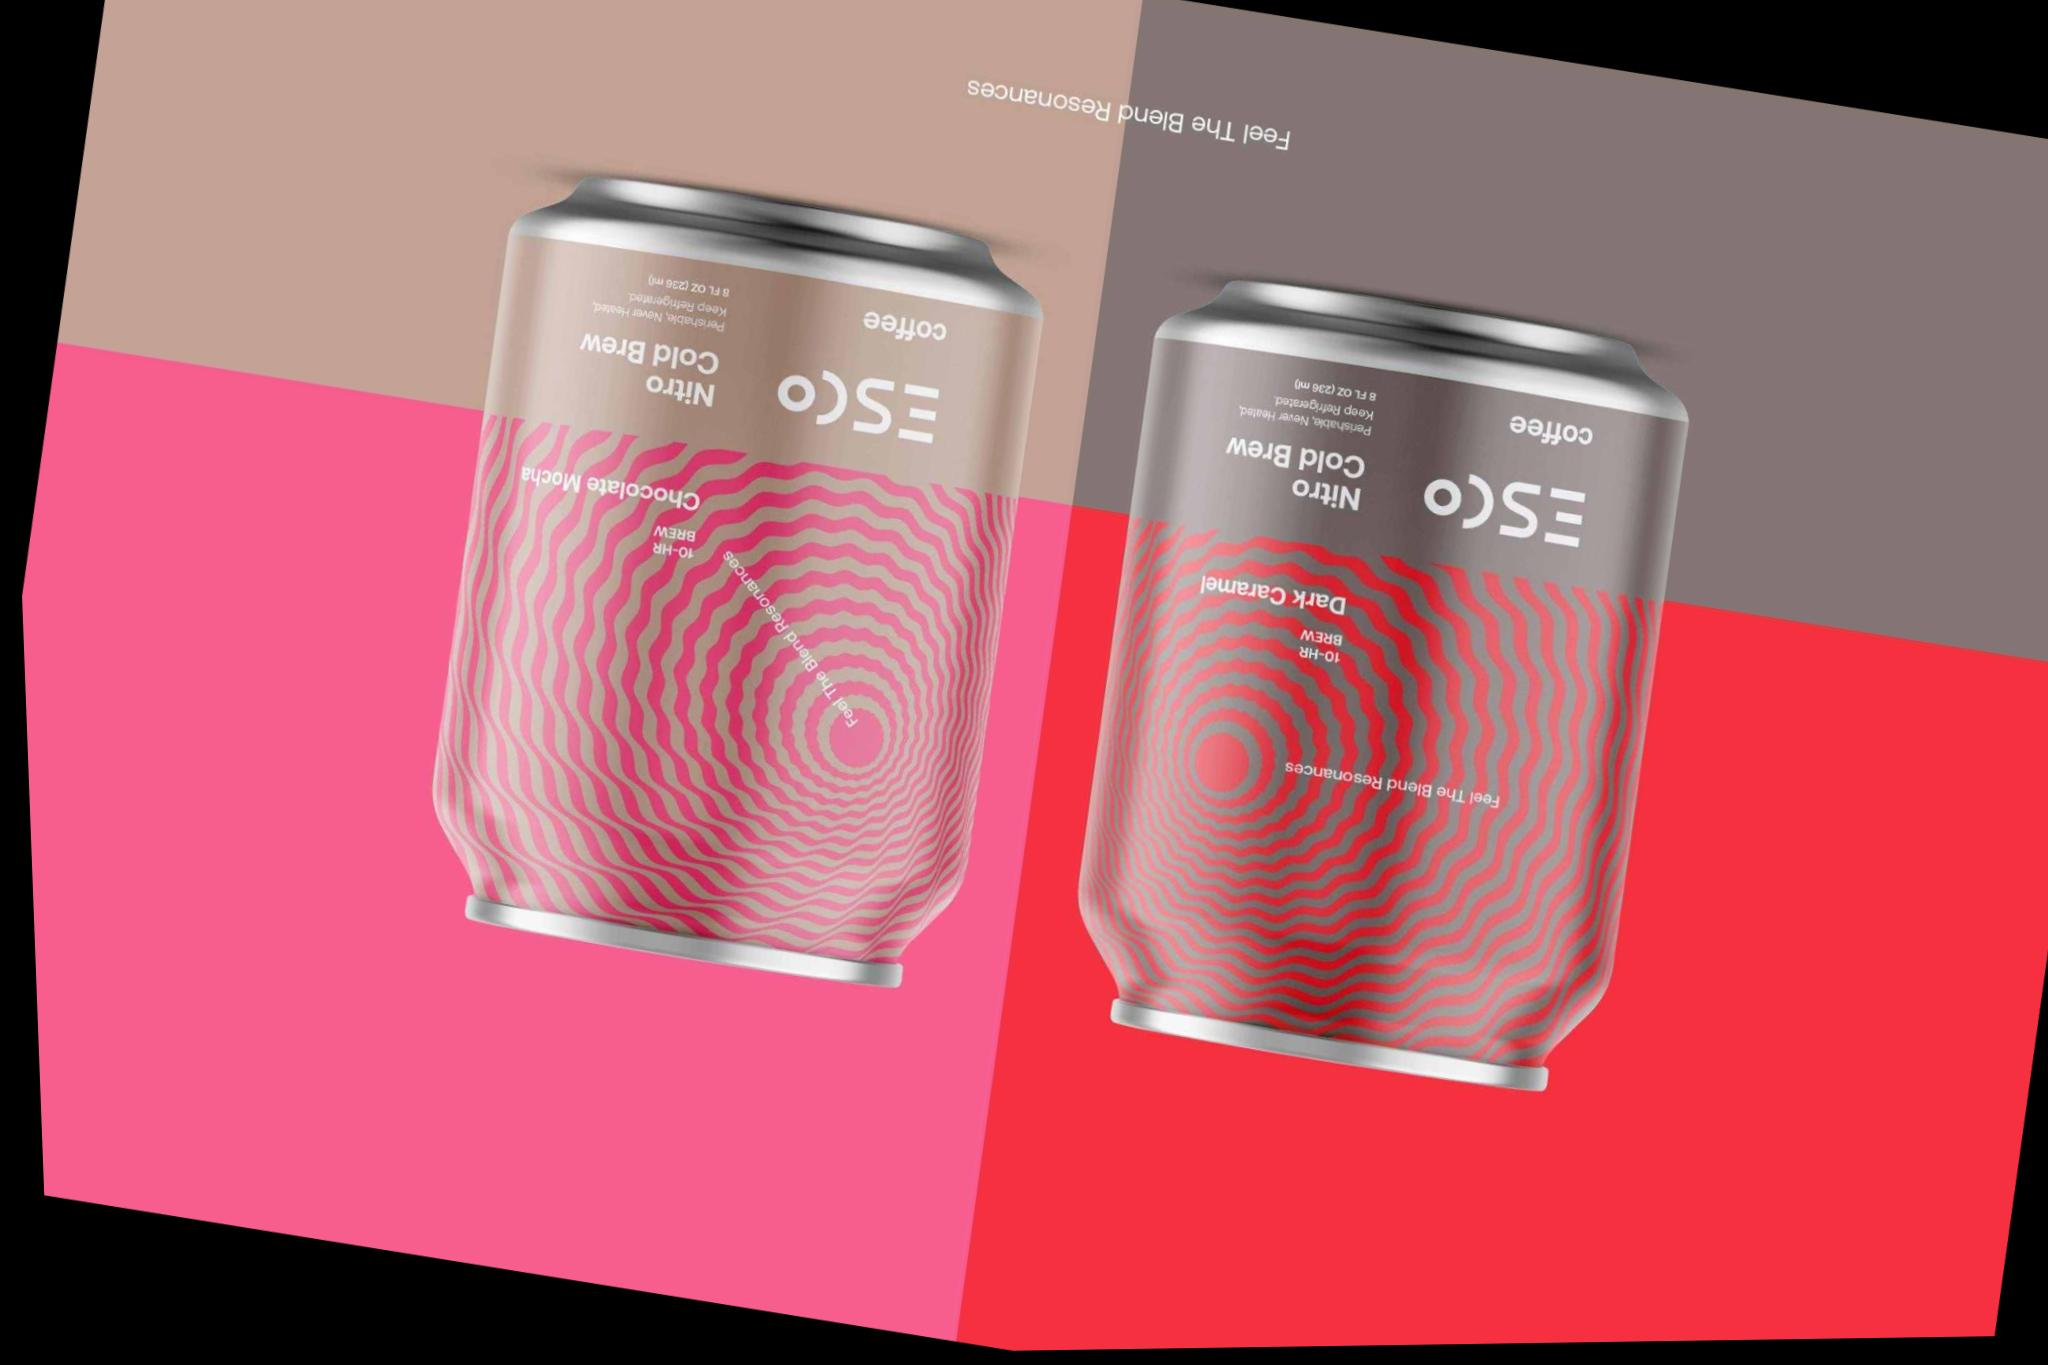metal: (1078, 280, 1687, 1091), (432, 177, 1042, 986)
